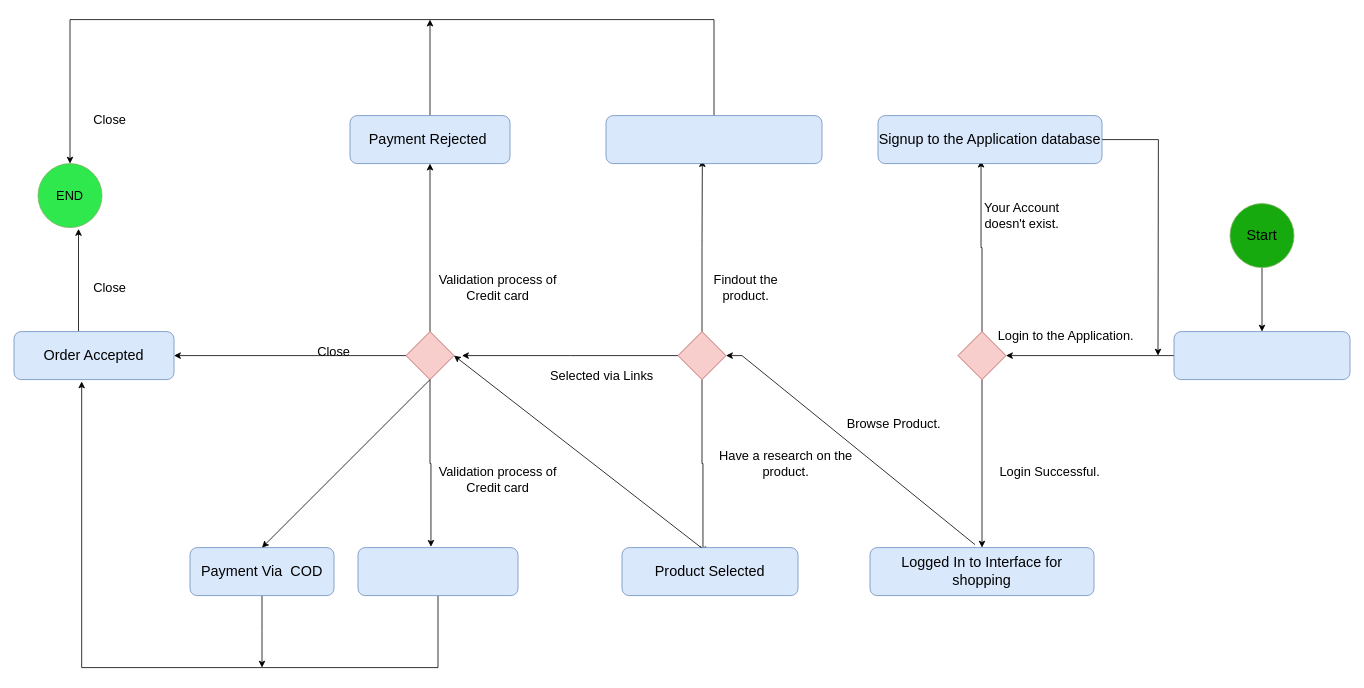
This 1364x688 diagram has some shape labels left out. Each missing label, with the box of its shape:
Install the Application: (1173, 331, 1350, 380)
Payment Accepted: (357, 547, 518, 596)
Product Not Available: (605, 115, 822, 164)
